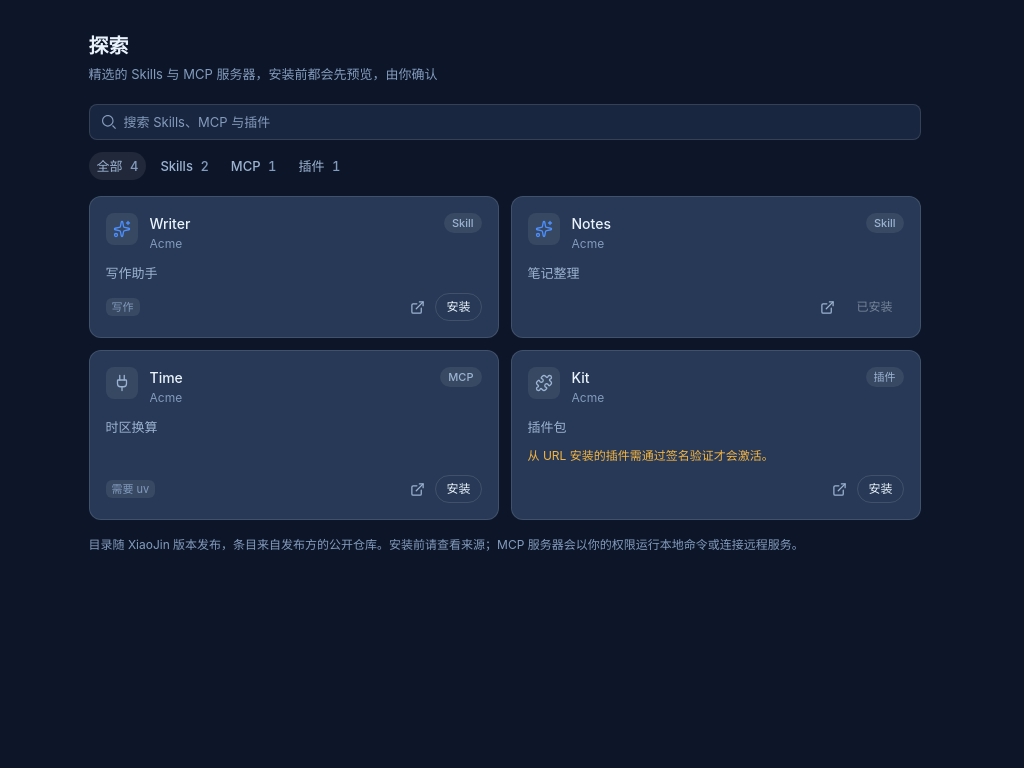
ExplorePage › opens the Plugin URL install prefilled with the signature notice
The image size is (1024, 768).
Click the button "安装" below "从 URL 安装的插件需通过签名验证才会激活。" at {"x": 880, "y": 489}, box x1=858 y1=475 x2=904 y2=503
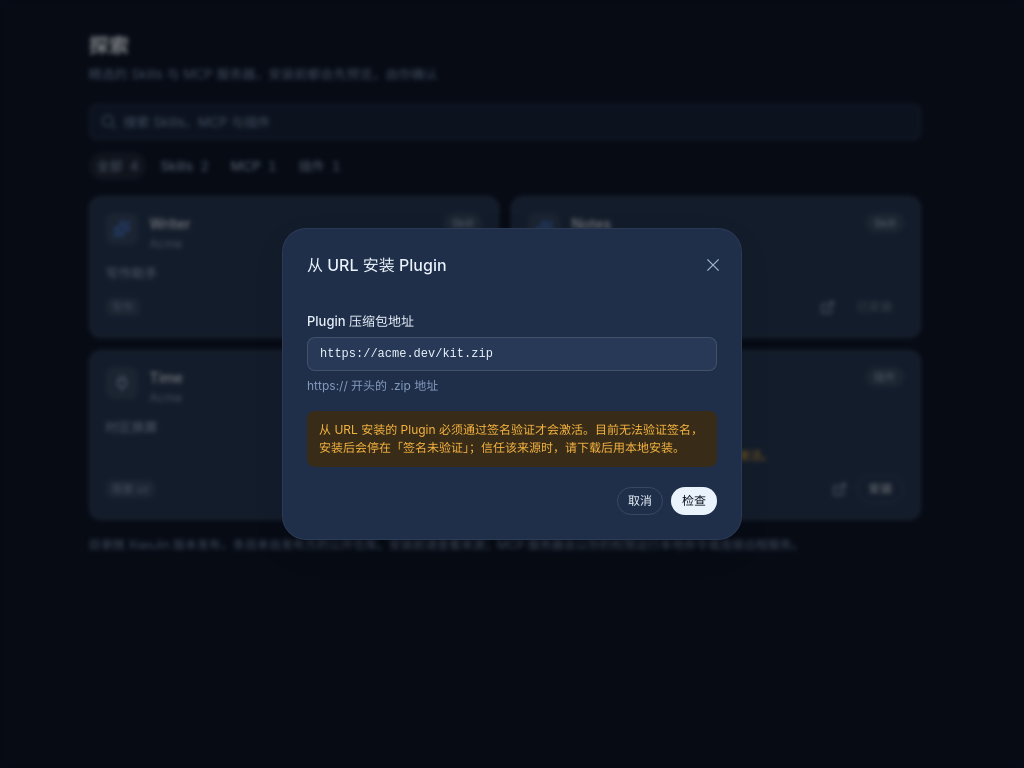
Expected: the element with test id "plugin-install-dialog" is shown, x1=307 y1=311 x2=717 y2=467
Expected: the field with test id "plugin-source" holds "https://acme.dev/kit.zip", x1=320 y1=338 x2=704 y2=370
Expected: the element with test id "plugin-install-dialog" shows "必须通过签名验证才会激活", x1=319 y1=422 x2=703 y2=455
